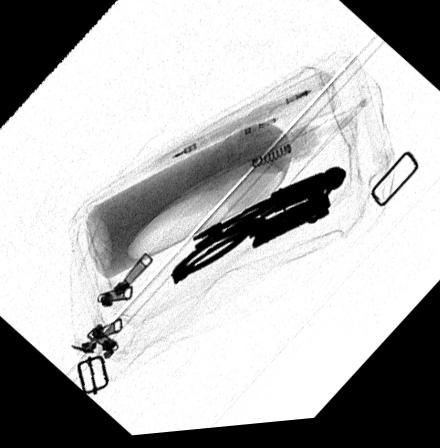HandCuffs: (171, 173, 346, 289)
